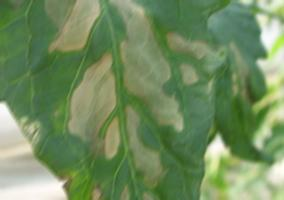Tomato leaf bacterial spot: (0, 0, 229, 200)
